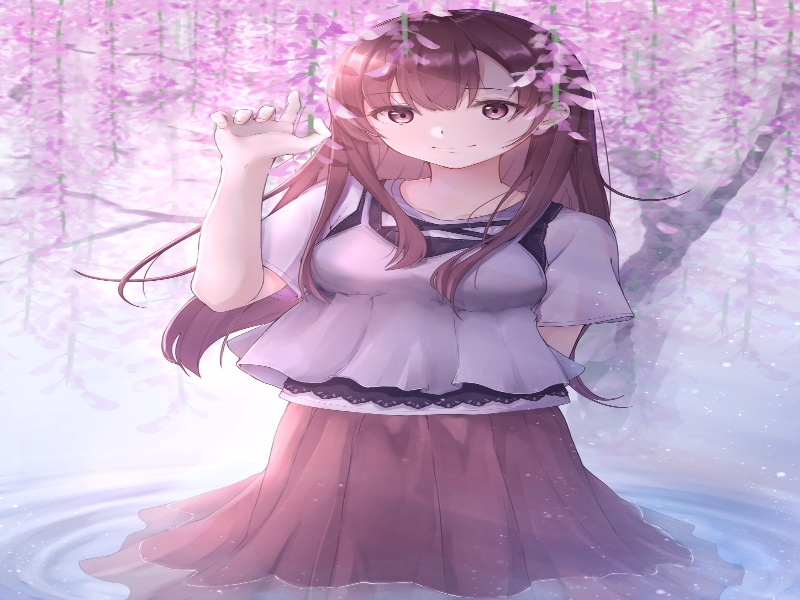dress: (130, 392, 721, 600)
person: (323, 12, 587, 186)
